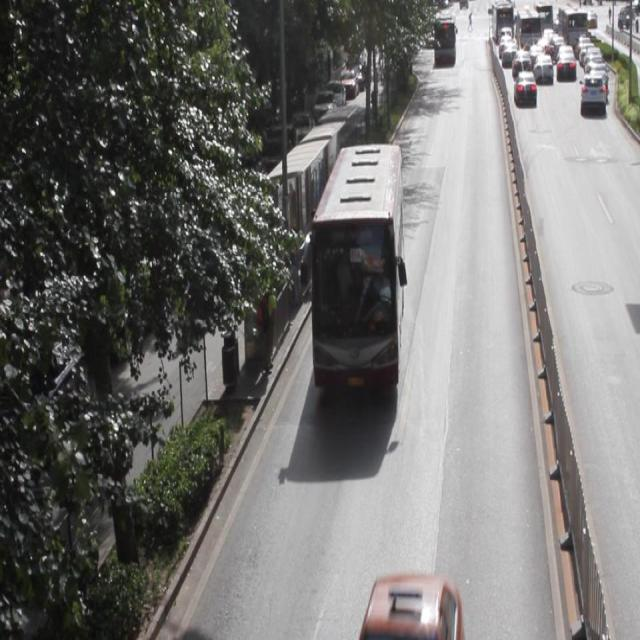car: (359, 570, 461, 640)
van: (312, 142, 401, 388)
